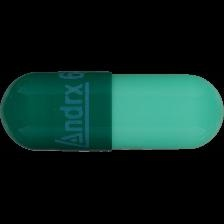0179-0016: (0, 0, 224, 224)
